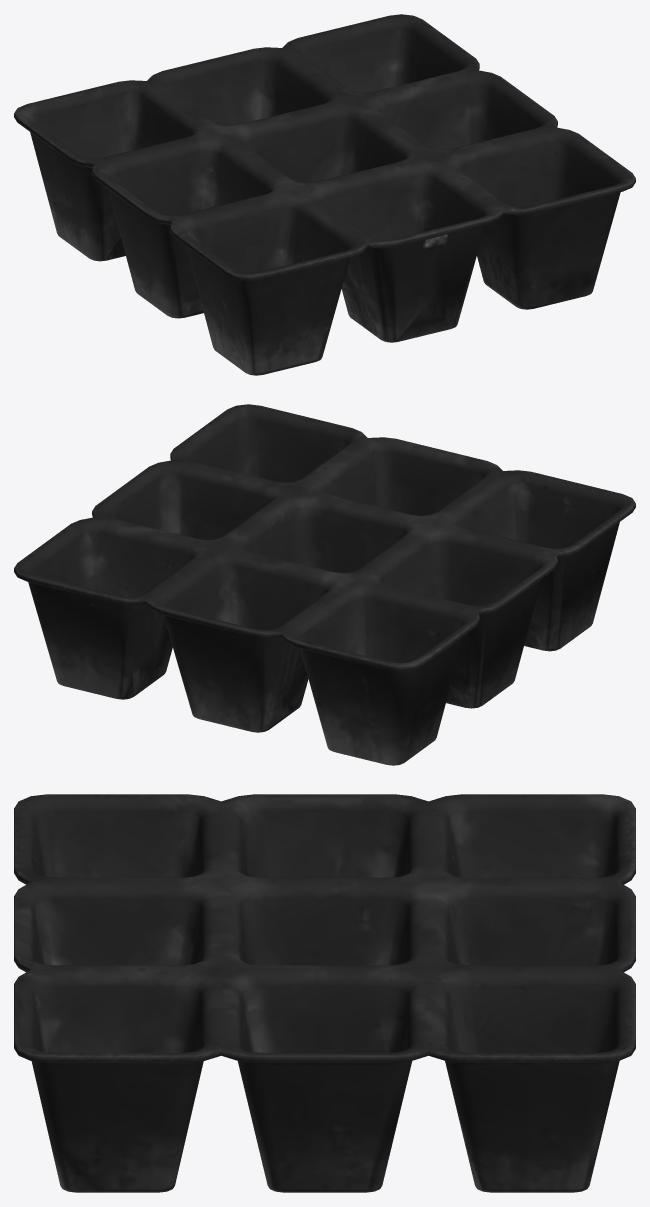
Rendered from seeding_tray_01.glb.
3 views of the same model, one above another, from view 1: azimuth 30°, elevation 25°; view 2: azimuth 150°, elevation 25°; view 3: azimuth 270°, elevation 25° (orthographic). The views are drawn at different scales.
Parts seen in each view (by area): view 1: seeding_tray_01; view 2: seeding_tray_01; view 3: seeding_tray_01.
Part boxes in pixels (x1=…): seeding_tray_01: x1=14, y1=14, x2=635, y2=375; seeding_tray_01: x1=14, y1=404, x2=635, y2=765; seeding_tray_01: x1=14, y1=794, x2=635, y2=1192.
Size of the model in its own units: 0.2202 by 0.0608 by 0.2202.
1 material, 1 textured.
